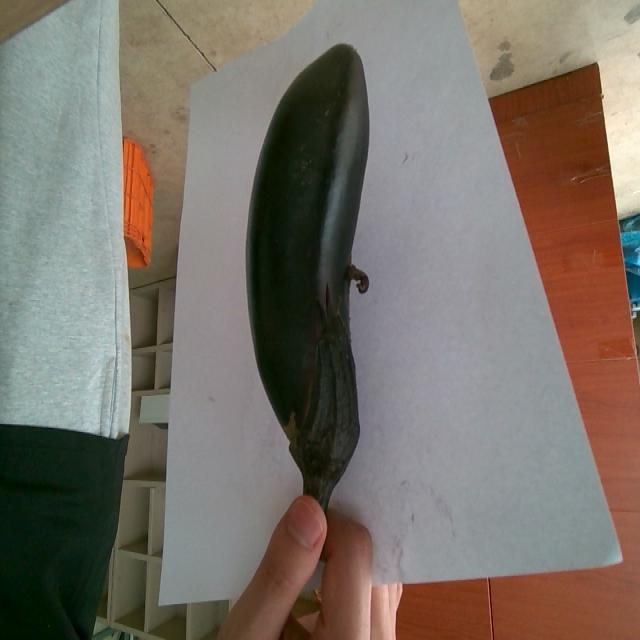Egg plant: (247, 45, 369, 509)
